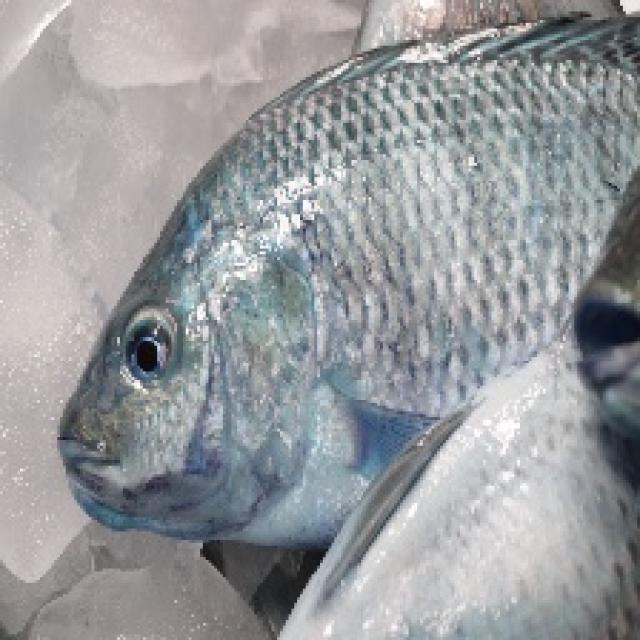Fresh: (52, 73, 596, 578)
